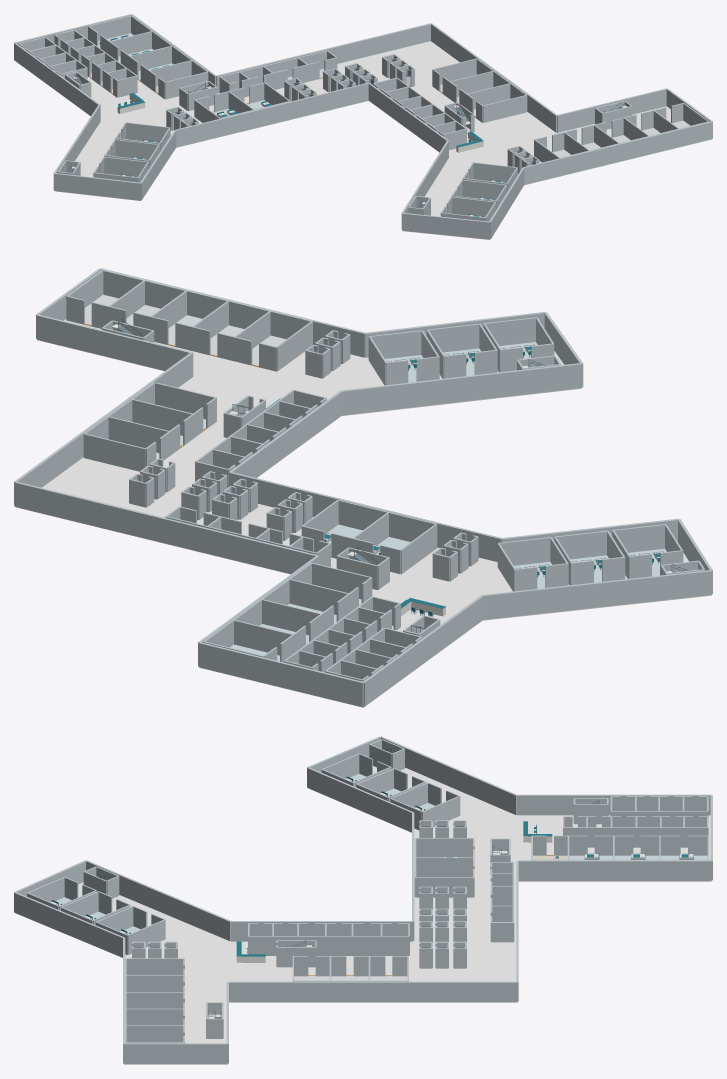
File: dushu-F6.glb
3 views of the same model, one above another, from view 1: azimuth 30°, elevation 25°; view 2: azimuth 150°, elevation 25°; view 3: azimuth 270°, elevation 25° (orthographic). The views are drawn at different scales.
Visible parts, largest first — view 1: Floor slab, wall-11, wall-6, wall-2, wall-8, wall-13, wall-15, wall-4, wall-3, wall-10, wall-94, wall-14 (+19 smaller); view 2: Floor slab, wall-2, wall-9, wall-14, wall-0, wall-4, wall-15, wall-11, wall-10, wall-3, wall-84, wall-6 (+27 smaller); view 3: Floor slab, wall-3, wall-1, wall-9, wall-14, wall-7, wall-12, wall-15, wall-5, wall-10, wall-77, wall-79 (+21 smaller).
Boxes of the visible parts, bbox=[...] form: Floor slab: bbox=[55, 41, 711, 239]; wall-11: bbox=[175, 82, 368, 147]; wall-6: bbox=[523, 121, 712, 184]; wall-2: bbox=[216, 23, 431, 92]; wall-8: bbox=[402, 213, 489, 239]; wall-13: bbox=[54, 173, 140, 200]; wall-15: bbox=[14, 43, 100, 115]; wall-4: bbox=[557, 88, 666, 132]; wall-3: bbox=[431, 23, 556, 132]; wall-10: bbox=[368, 83, 448, 152]; wall-94: bbox=[483, 95, 526, 122]; wall-14: bbox=[53, 105, 100, 189]; Floor slab: bbox=[15, 319, 711, 707]; wall-2: bbox=[14, 482, 318, 573]; wall-9: bbox=[341, 363, 581, 415]; wall-14: bbox=[482, 570, 711, 619]; wall-0: bbox=[198, 642, 363, 706]; wall-4: bbox=[36, 314, 192, 370]; wall-15: bbox=[363, 595, 483, 706]; wall-11: bbox=[229, 472, 502, 561]; wall-10: bbox=[229, 391, 342, 486]; wall-3: bbox=[14, 352, 193, 505]; wall-84: bbox=[84, 433, 145, 471]; wall-6: bbox=[100, 268, 365, 357]; Floor slab: bbox=[15, 766, 711, 1064]; wall-3: bbox=[228, 981, 517, 1001]; wall-1: bbox=[517, 860, 711, 880]; wall-9: bbox=[86, 860, 230, 941]; wall-14: bbox=[380, 736, 516, 814]; wall-7: bbox=[14, 892, 124, 957]; wall-12: bbox=[307, 767, 413, 832]; wall-15: bbox=[516, 794, 711, 815]; wall-5: bbox=[124, 1043, 227, 1063]; wall-10: bbox=[231, 921, 412, 941]; wall-77: bbox=[416, 857, 473, 877]; wall-79: bbox=[416, 838, 473, 857].
Bounding box in the file's own units: 108 × 4.02 × 104.
